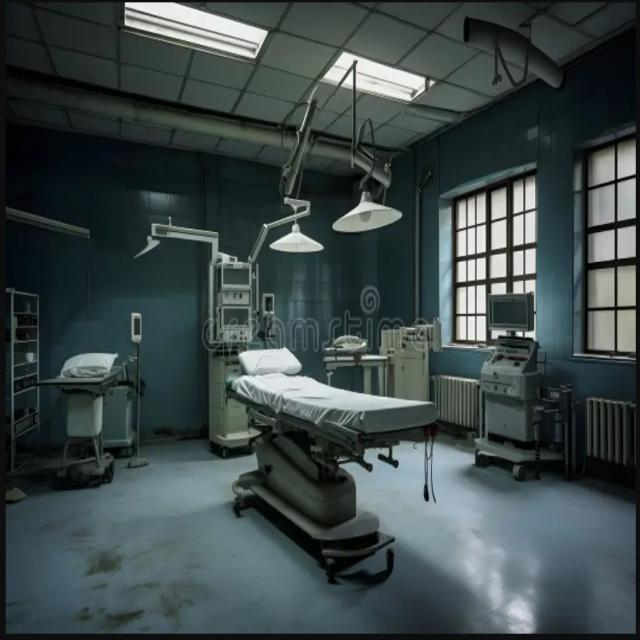Monitor: (218, 254, 263, 358)
bed: (224, 368, 438, 584)
